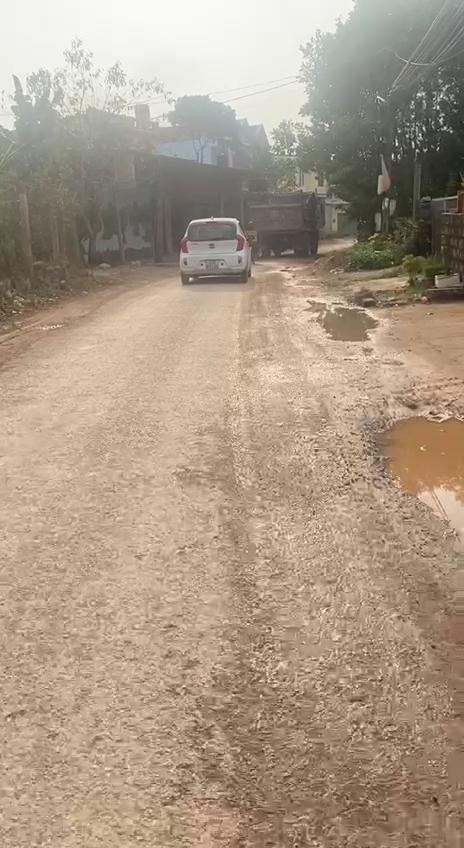pothole: (371, 410, 464, 540), (308, 301, 382, 342)
